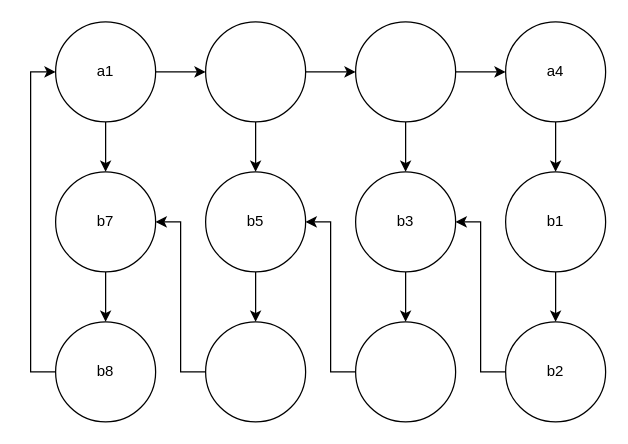
This 628x444 diagram has some shape labels left out. Here are the shapes that lost their labels. From the top down, the centre of each, then its label:
At [255,71]: "a2".
At [405,71]: "a3".
At [255,371]: "b6".
At [405,371]: "b4".
